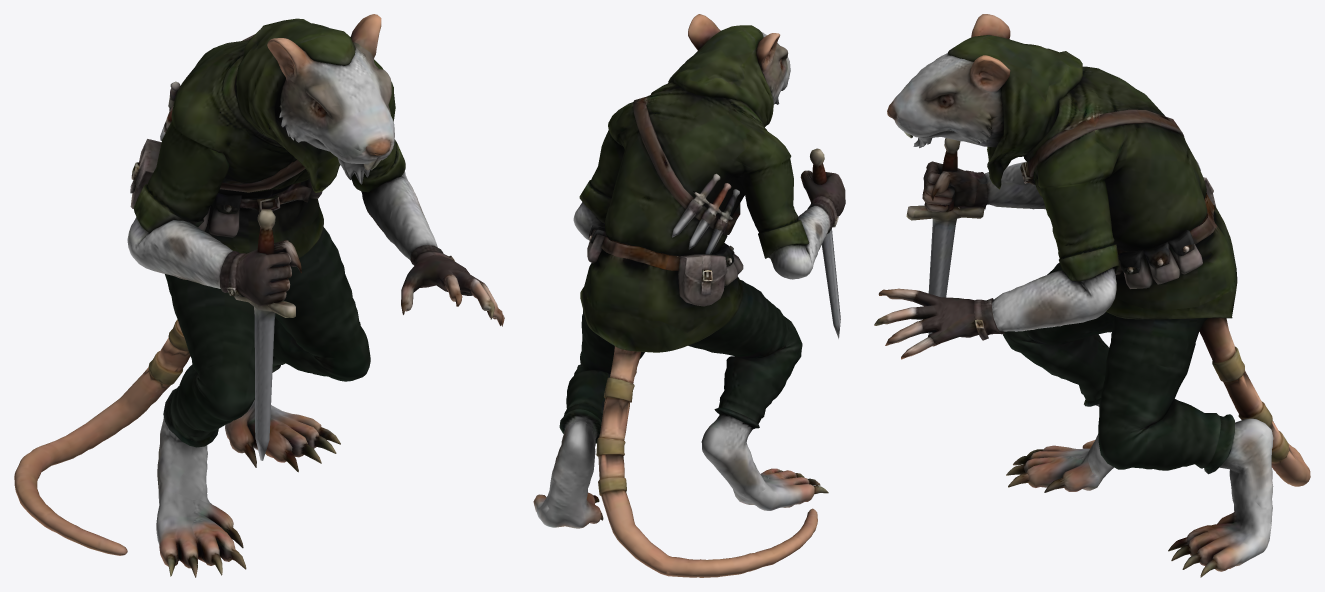
The model's file is MZ4250 - Ratfolk Rogue_RussianDalmation.glb.
The picture shows the model from 3 angles, left to right: view 1: azimuth 30°, elevation 25°; view 2: azimuth 150°, elevation 25°; view 3: azimuth 270°, elevation 25°; orthographic projection. The views are drawn at different scales.
Visible parts, largest first — view 1: Ratfolk.001; view 2: Ratfolk.001; view 3: Ratfolk.001.
Part boxes in pixels (x1,y1,x2,y2): Ratfolk.001: (14, 14, 504, 577); Ratfolk.001: (533, 14, 845, 577); Ratfolk.001: (874, 14, 1310, 577).
Bounding box in the file's own units: 0.3783 × 0.6074 × 0.4927.
Materials: 1 (1 with a texture image).
